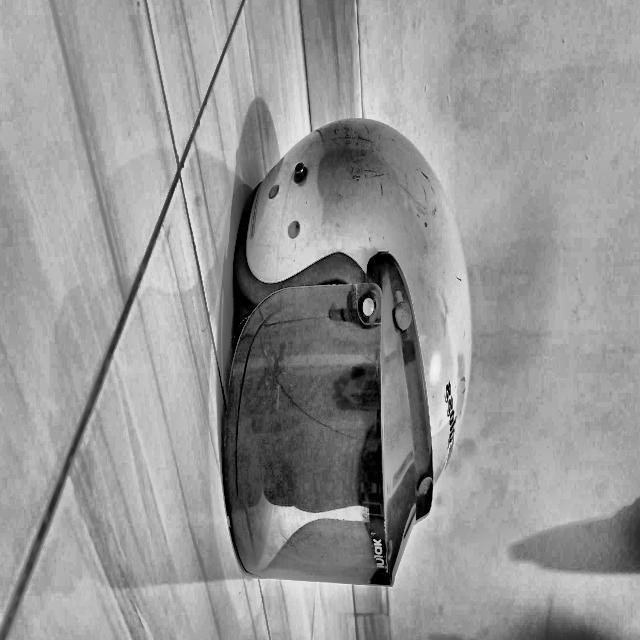Helmet: (327, 303, 619, 640)
